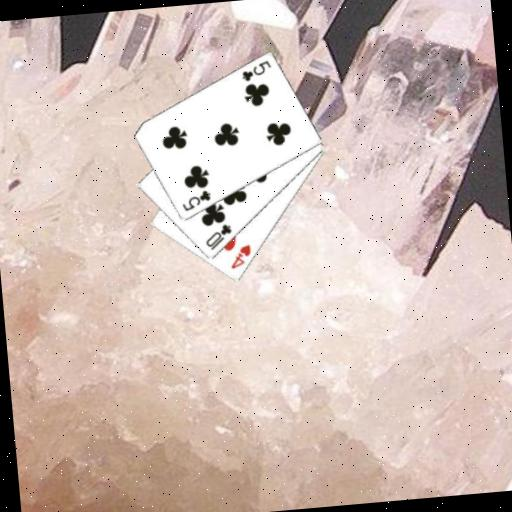10C: (201, 220, 235, 253)
4H: (226, 242, 255, 272)
5C: (238, 58, 274, 84), (179, 187, 214, 213)
